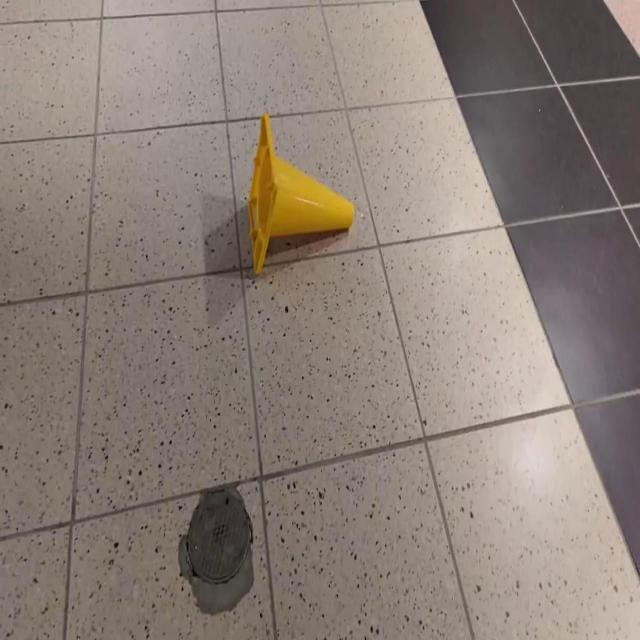frc_cone: (246, 112, 354, 278)
